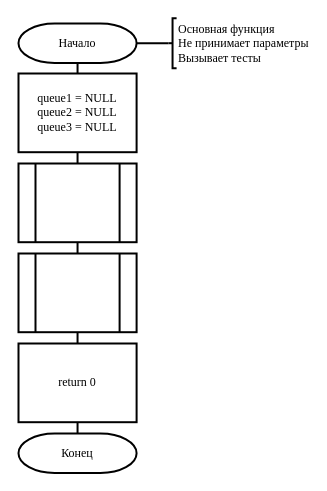
This 327x491 diagram has some shape labels left out. Here are the shapes that lost their labels. From the top down, the centre of each, then its label:
At (77,202): "test1( queue1, queue2, queue3 )".
At (77,292): "test2( queue1, queue2, queue3 )".
